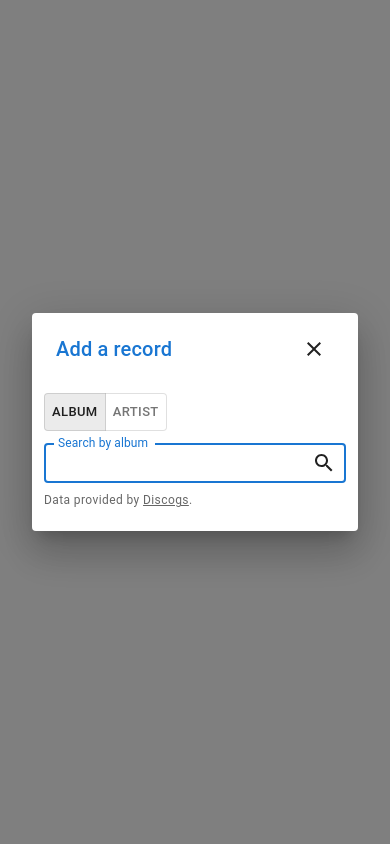
Test case: Searching › searches artists when asked
The image size is (390, 844).
Click the button "Artist" at (136, 412), box [105,393,167,432]
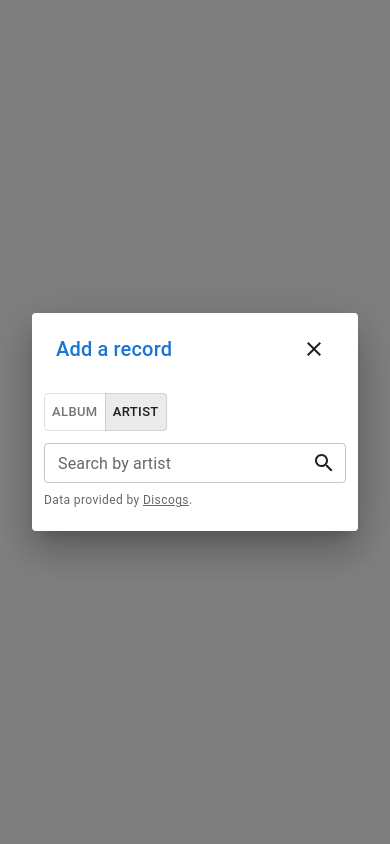
Type "brel" into the field labelled "Search by artist" at (170, 463), box [44,443,296,483]
Then press Enter
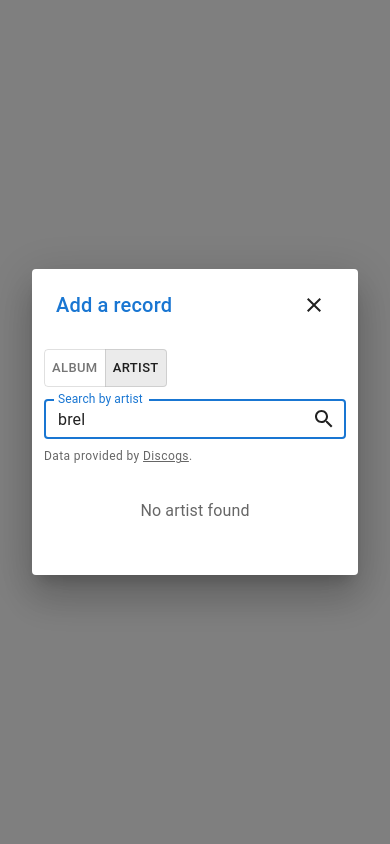
Expected: the text "No artist found" is shown, [140,501,250,520]
